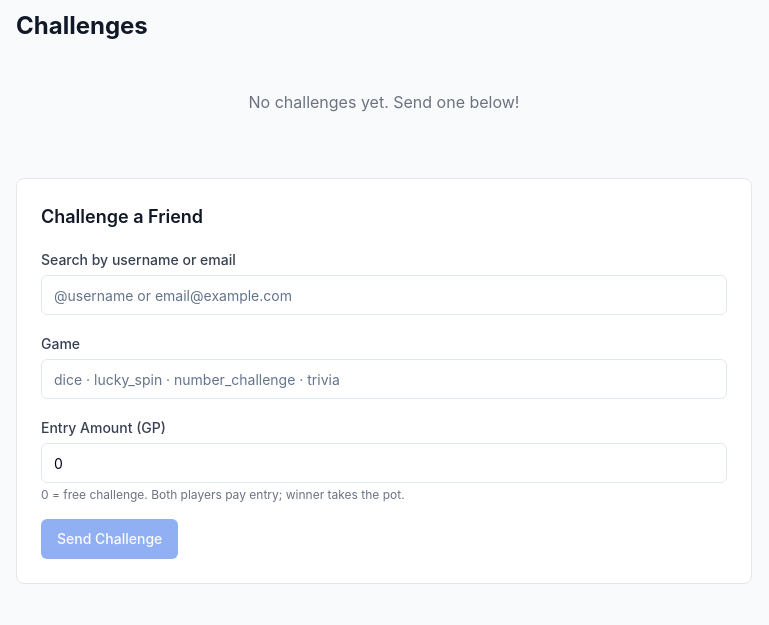
ChallengesPage — search › shows a friendly rate-limit message on 429 and does not retry automatically
This screenshot has width=769, height=625.
Expected: the heading "Challenge a Friend" is shown, left=41, top=206, right=203, bottom=227
Type "petestar26" into the field labelled "Search by username or email" at (384, 295), box left=41, top=275, right=727, bottom=315
Wait 5300 ms
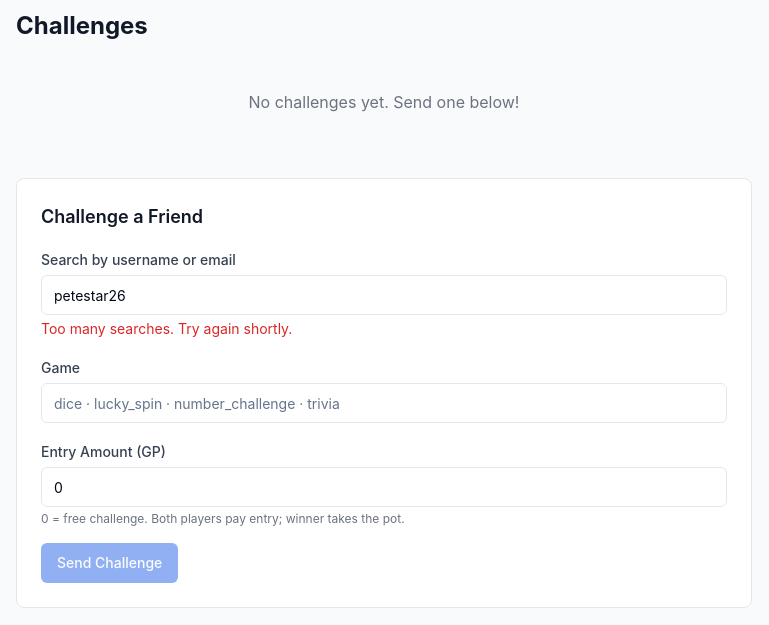
Expected: the text "Too many searches. Try again shortly." is shown, left=41, top=320, right=292, bottom=337
